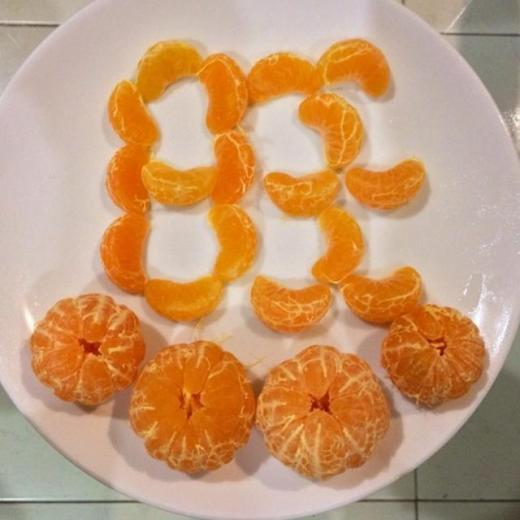Grape: (257, 342, 394, 474), (134, 344, 258, 466), (30, 290, 146, 407), (386, 302, 491, 407)
